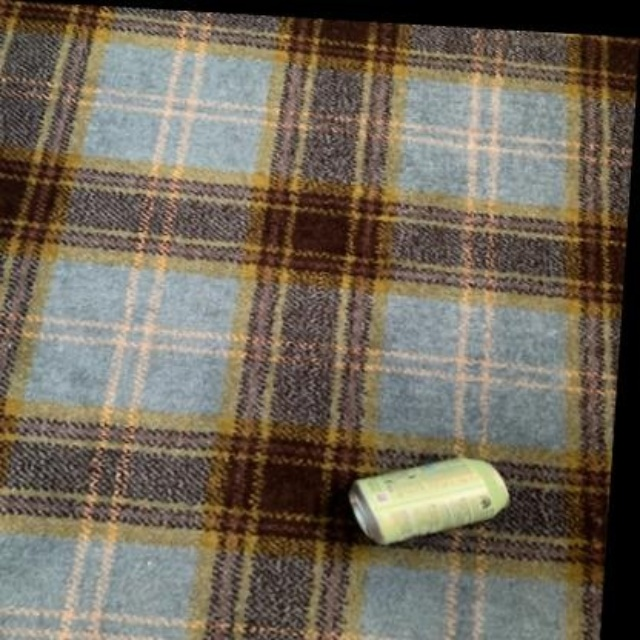trash: (349, 458, 508, 543)
